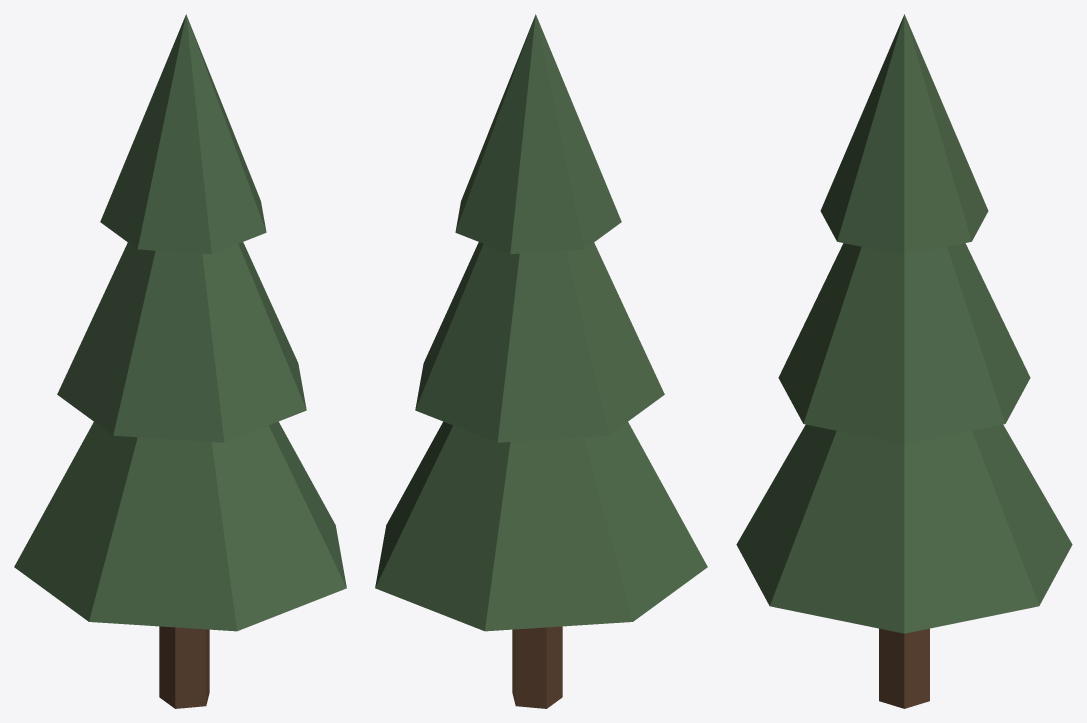
Rendered from tree_cedar.fbx.
The picture shows the model from 3 angles, left to right: view 1: azimuth 30°, elevation 25°; view 2: azimuth 150°, elevation 25°; view 3: azimuth 270°, elevation 25°; orthographic projection.
Parts seen in each view (by area): view 1: tree_cedar; view 2: tree_cedar; view 3: tree_cedar.
Part boxes in pixels (box(x1,y1,x2,y2)): tree_cedar: box(14, 14, 346, 708); tree_cedar: box(375, 14, 707, 708); tree_cedar: box(736, 14, 1072, 708).
Bounding box in the file's own units: 3.04 × 7 × 3.12.
1 material, 1 textured.
